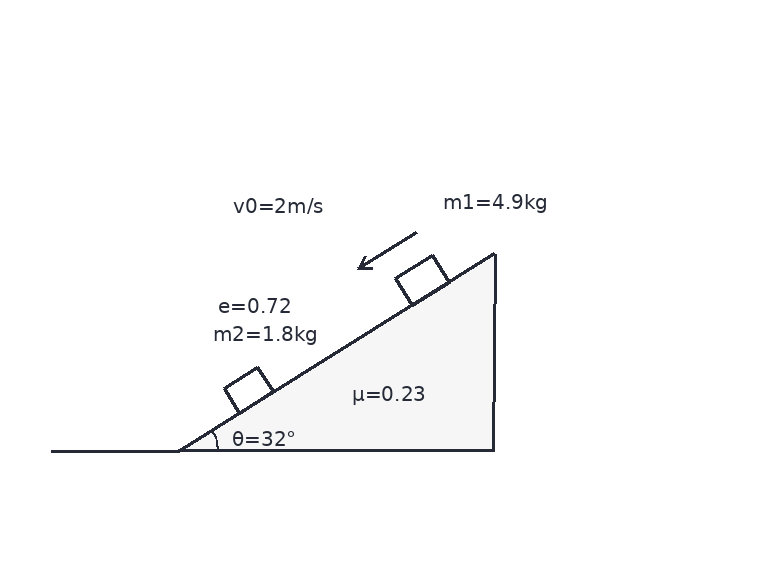block: (393, 252, 451, 307), (222, 365, 275, 415)
ramp: (176, 252, 495, 453)
